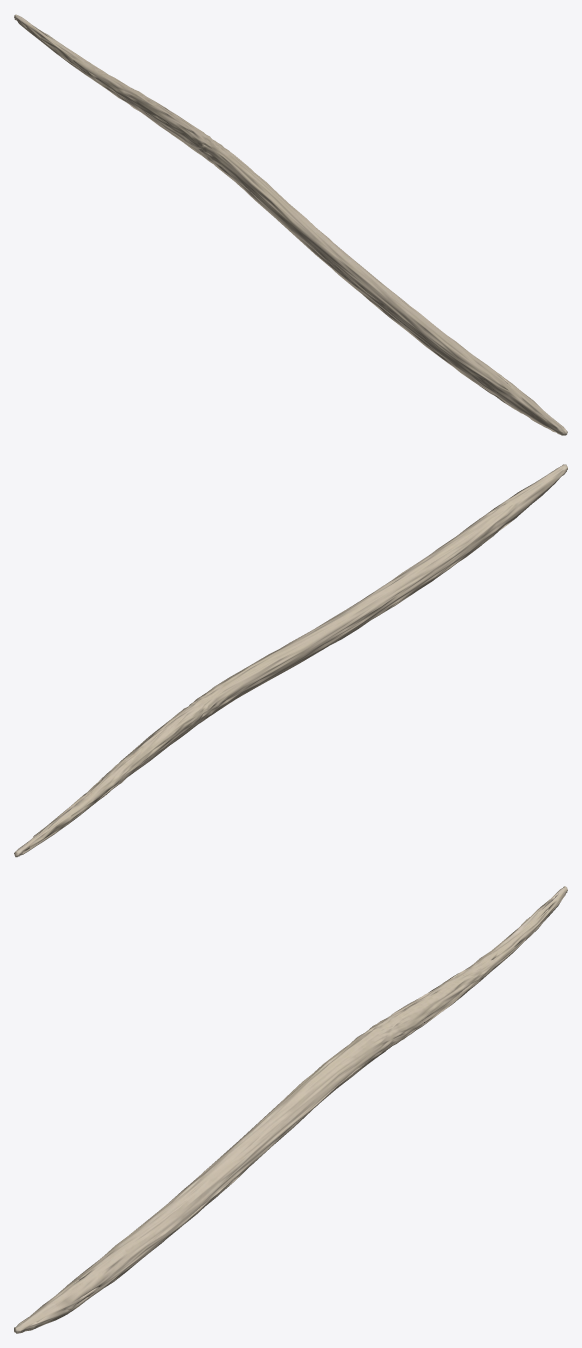
Rendered from Ventral (8).glb.
3 views of the same model, one above another, from view 1: azimuth 30°, elevation 25°; view 2: azimuth 150°, elevation 25°; view 3: azimuth 330°, elevation 25° (orthographic). The views are drawn at different scales.
Visible parts, largest first — view 1: tripo_node_b182ada0-829d-4a14-9173-ced41c55a2e2; view 2: tripo_node_b182ada0-829d-4a14-9173-ced41c55a2e2; view 3: tripo_node_b182ada0-829d-4a14-9173-ced41c55a2e2.
Part boxes in pixels (box(x1,y1,x2,y2)): tripo_node_b182ada0-829d-4a14-9173-ced41c55a2e2: box(14, 14, 567, 435); tripo_node_b182ada0-829d-4a14-9173-ced41c55a2e2: box(14, 464, 567, 857); tripo_node_b182ada0-829d-4a14-9173-ced41c55a2e2: box(14, 886, 567, 1333).
Size of the model in its own units: 0.039 by 0.0729 by 1.4.
Materials: 1 (1 with a texture image).
